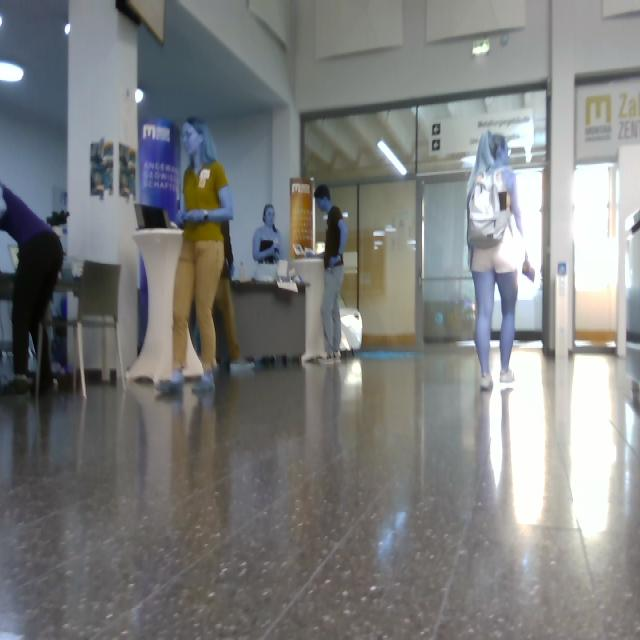chair: (37, 262, 128, 414)
desk: (231, 281, 306, 361)
door: (302, 80, 547, 348), (516, 276, 542, 340), (492, 283, 503, 345), (314, 205, 327, 252)
light bulb: (378, 140, 407, 176), (1, 62, 23, 86), (137, 89, 144, 104), (65, 24, 70, 36), (1, 14, 2, 28)
person: (160, 117, 233, 392), (468, 132, 536, 390), (1, 184, 63, 389), (214, 222, 255, 378), (315, 185, 348, 360), (253, 205, 282, 282), (190, 305, 201, 357)
pillar: (68, 1, 138, 370), (84, 329, 121, 370), (68, 328, 75, 370), (69, 294, 78, 320)
staircase: (625, 210, 640, 410)
table: (127, 229, 183, 382), (294, 258, 326, 364), (187, 344, 201, 377)
tiled floor: (1, 348, 640, 640)
